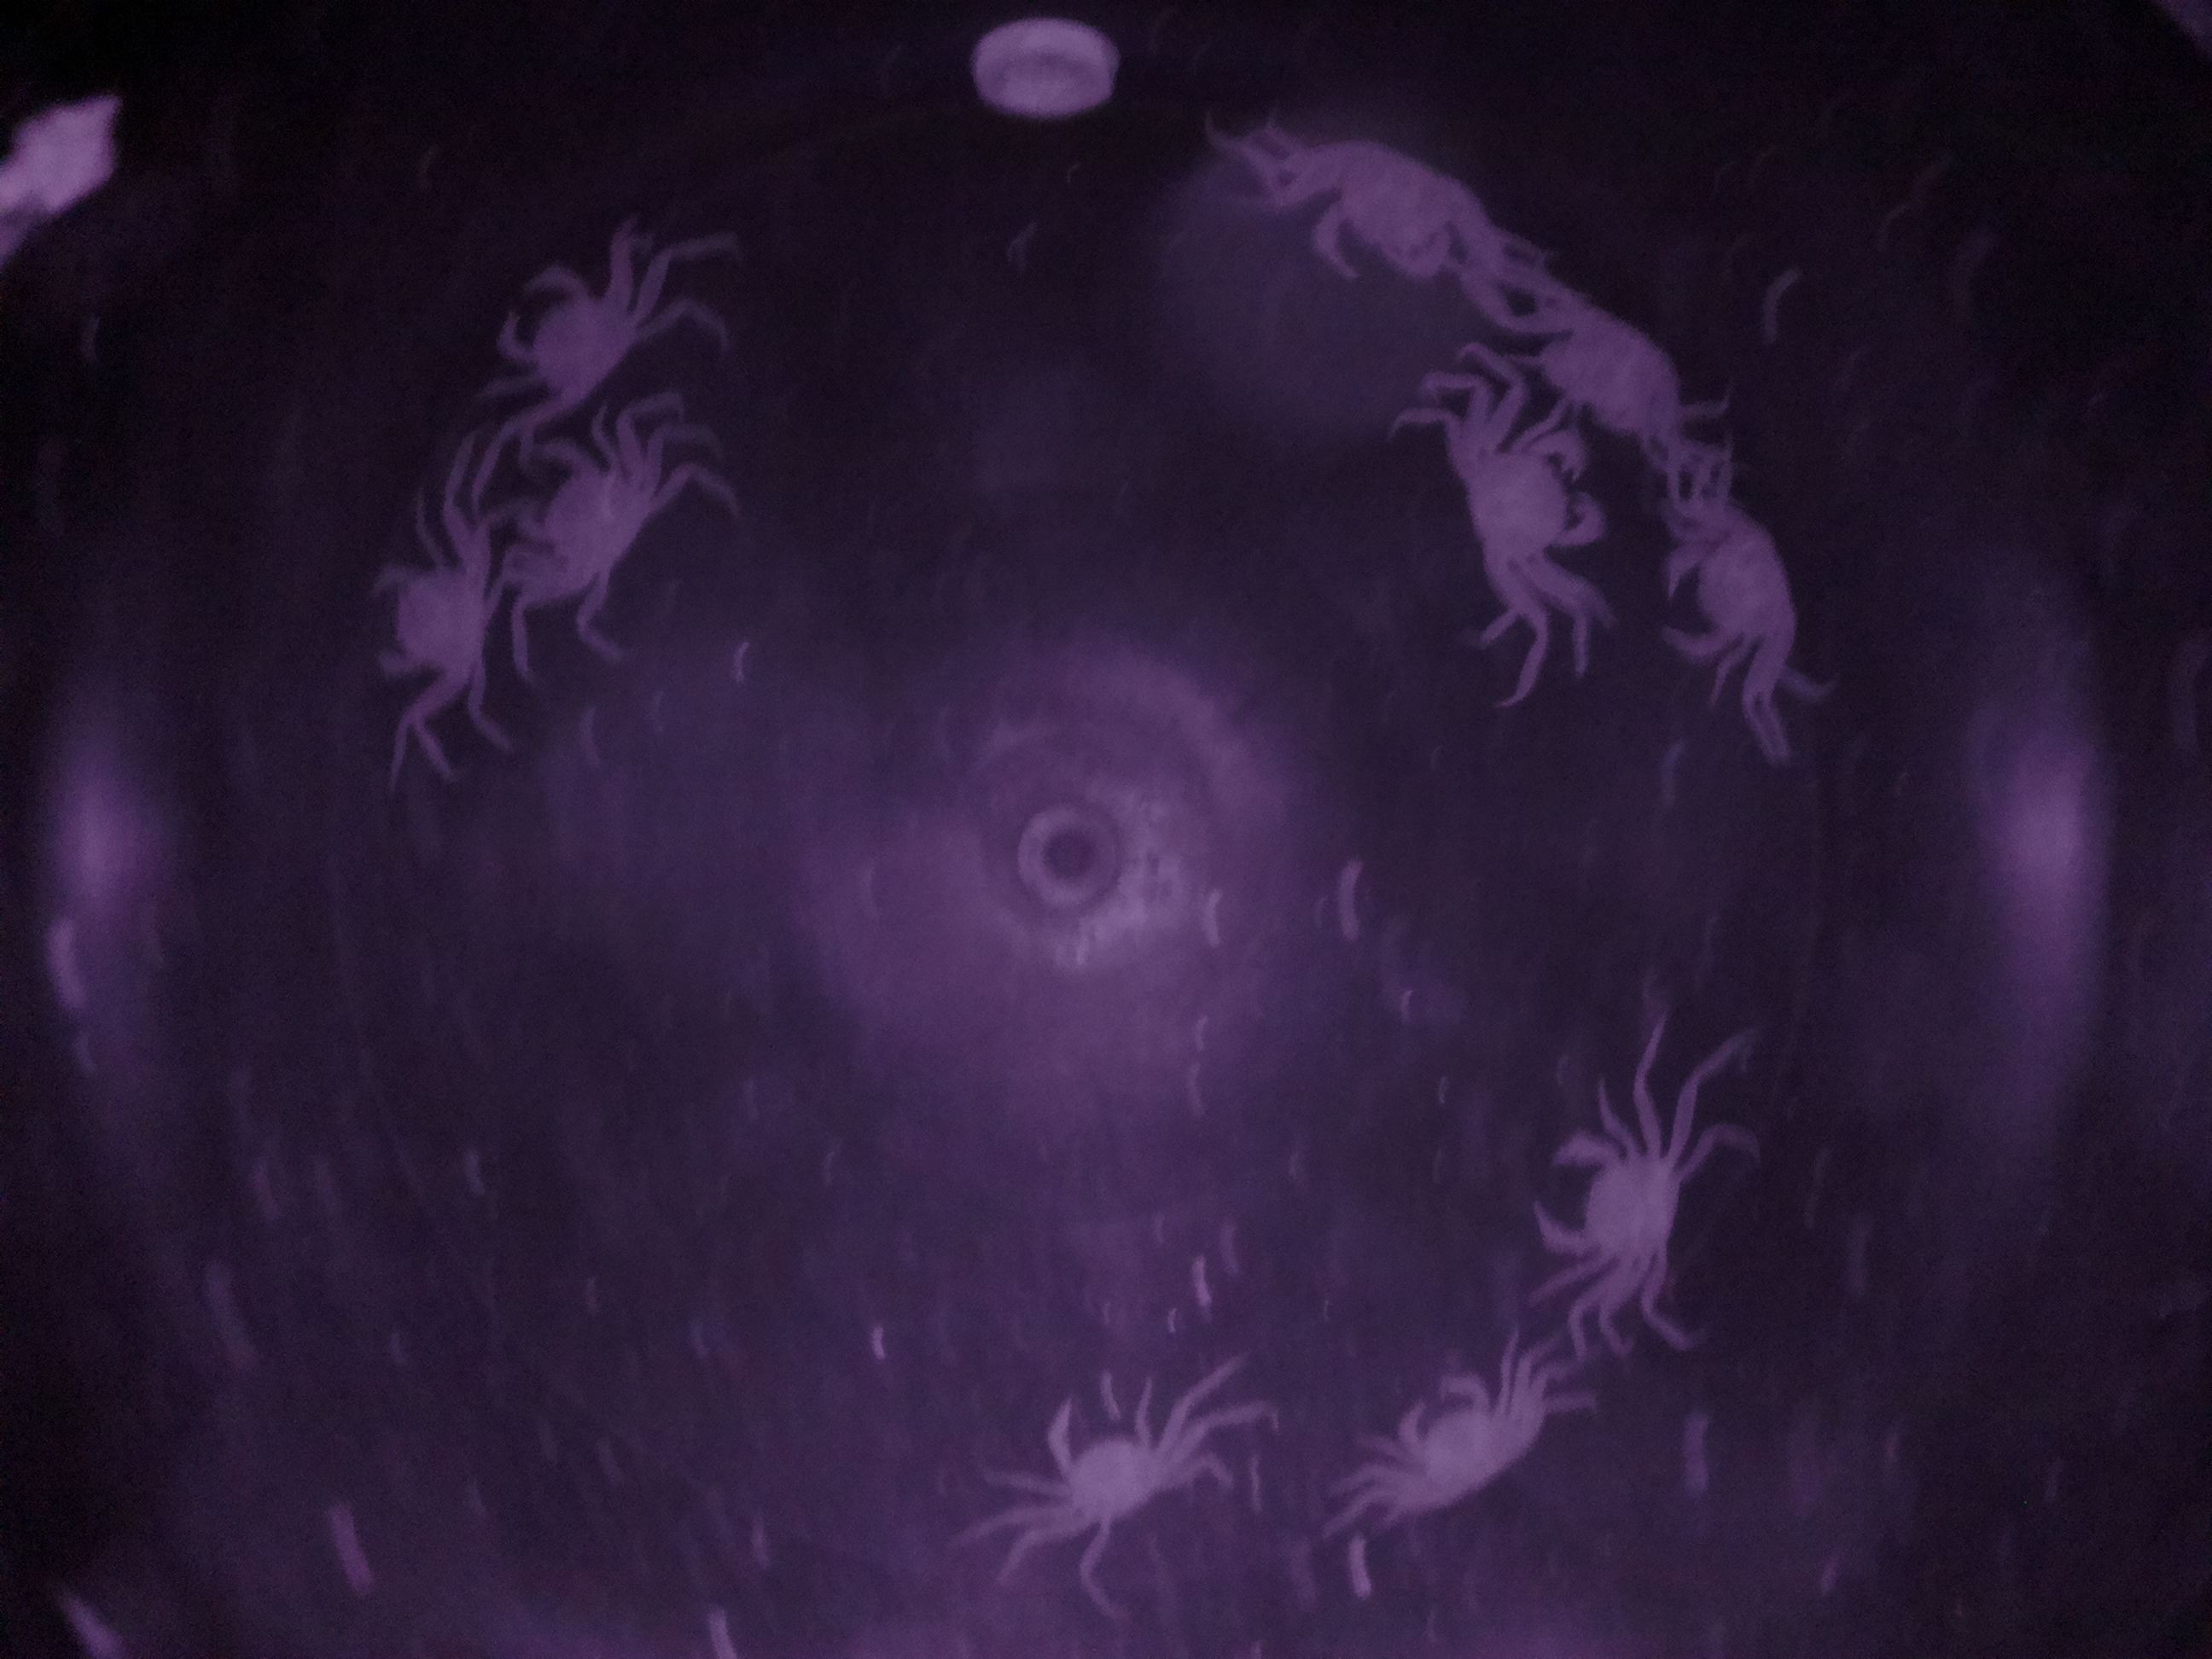Crab: (1507, 1108, 1723, 1305), (1359, 1354, 1550, 1520), (1446, 404, 1606, 596)
